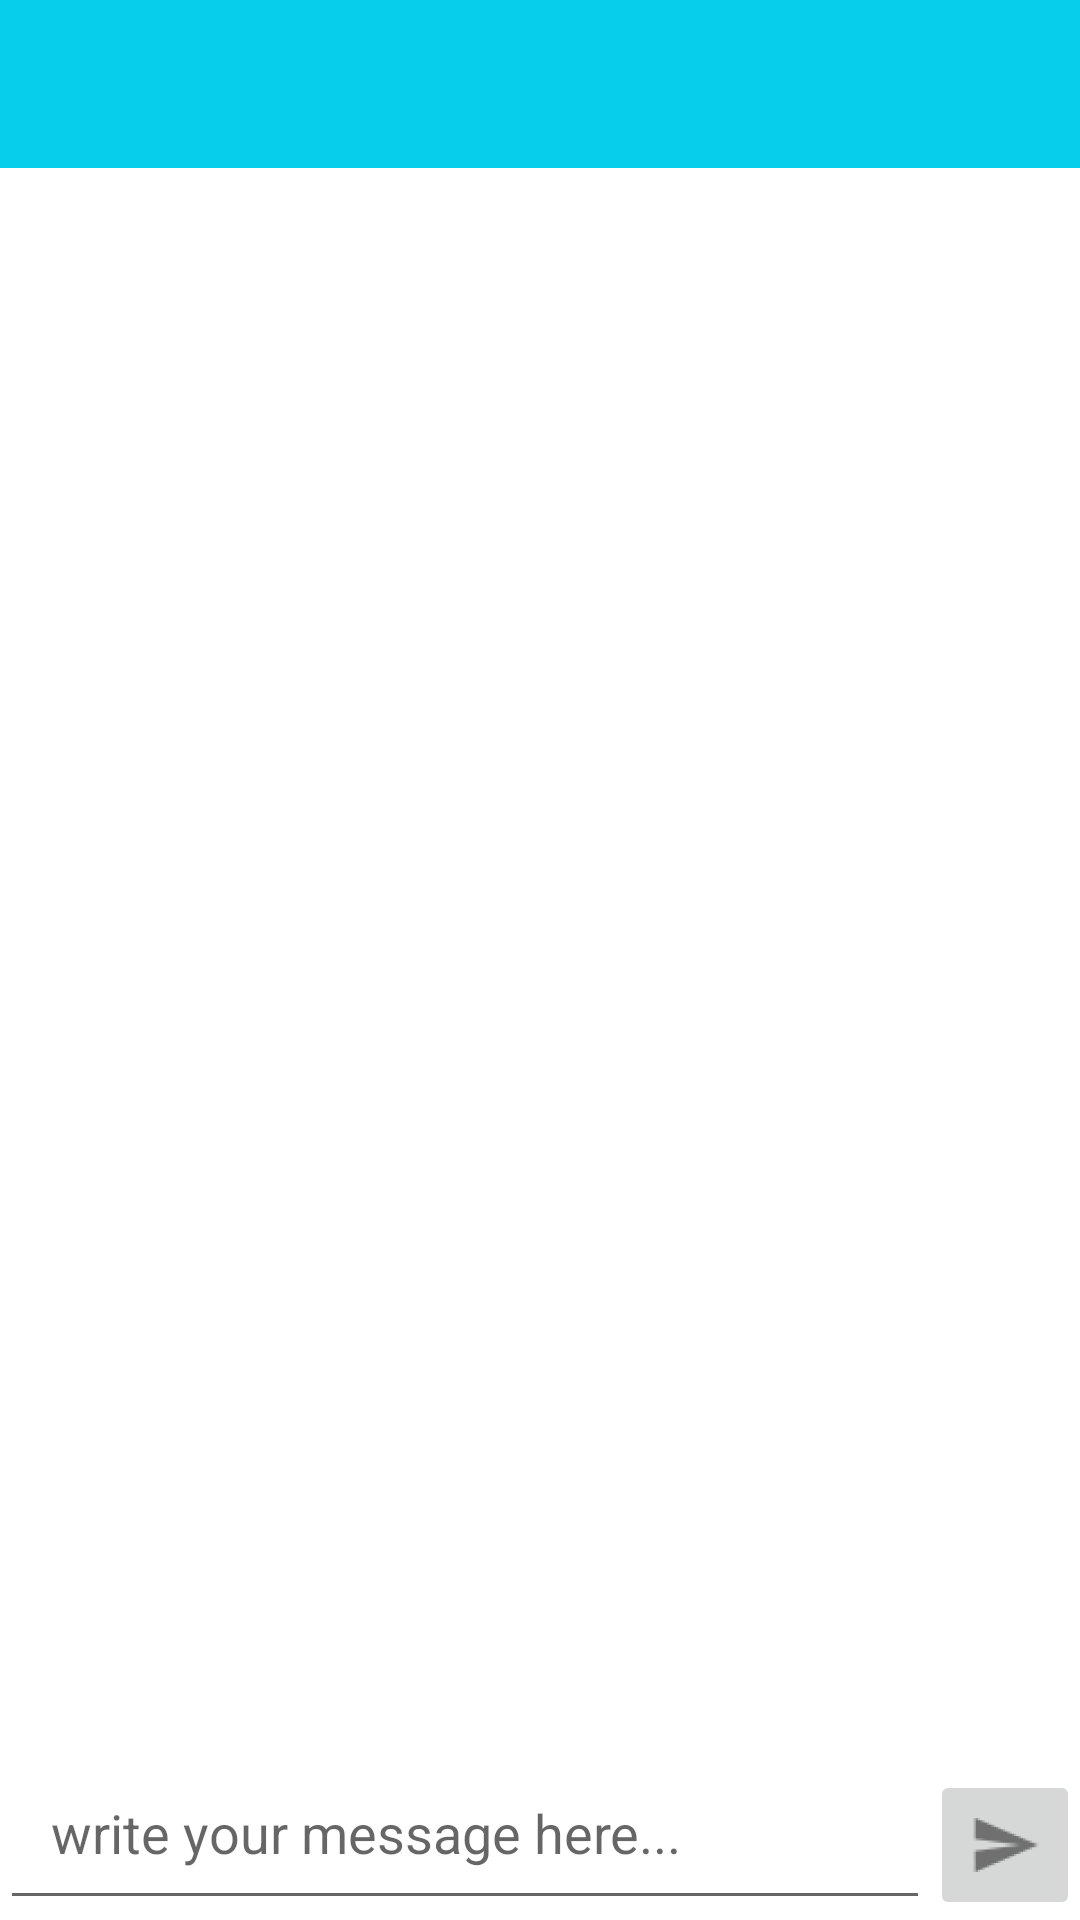

Where to tap for icons on this 1080x1920 app screen, as point (x, y):
send message: point (1005, 1845)
